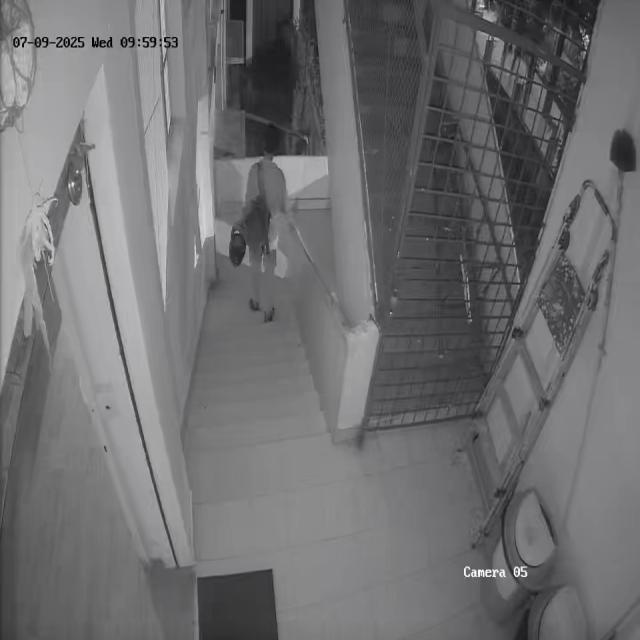person: (242, 122, 290, 323)
